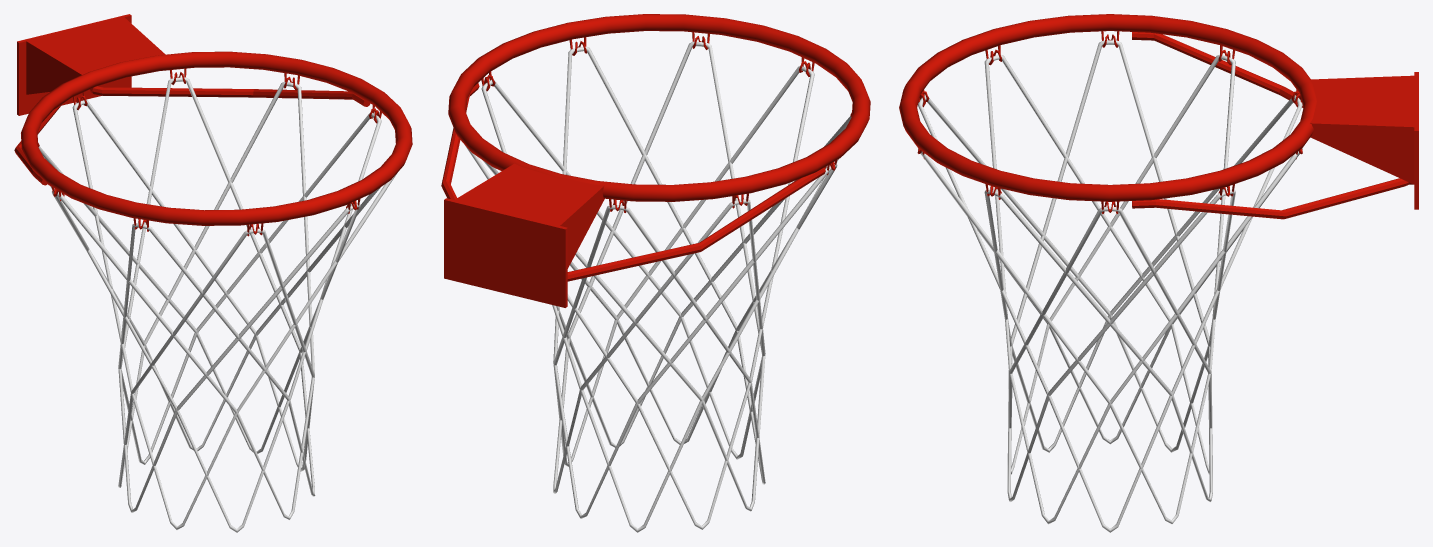
File: basketball-net.glb
The picture shows the model from 3 angles, left to right: view 1: azimuth 30°, elevation 25°; view 2: azimuth 150°, elevation 25°; view 3: azimuth 270°, elevation 25°; orthographic projection. The views are drawn at different scales.
Visible parts, largest first — view 1: Object_5, Object_3; view 2: Object_5, Object_3; view 3: Object_5, Object_3.
Boxes of the visible parts, x1,y1,x2,y2 form: Object_5: (14, 14, 412, 236); Object_3: (38, 77, 397, 532); Object_5: (441, 14, 870, 307); Object_3: (465, 41, 851, 532); Object_5: (899, 14, 1418, 219); Object_3: (918, 40, 1302, 532).
Size of the model in its own units: 47.01 by 47.72 by 57.85.
